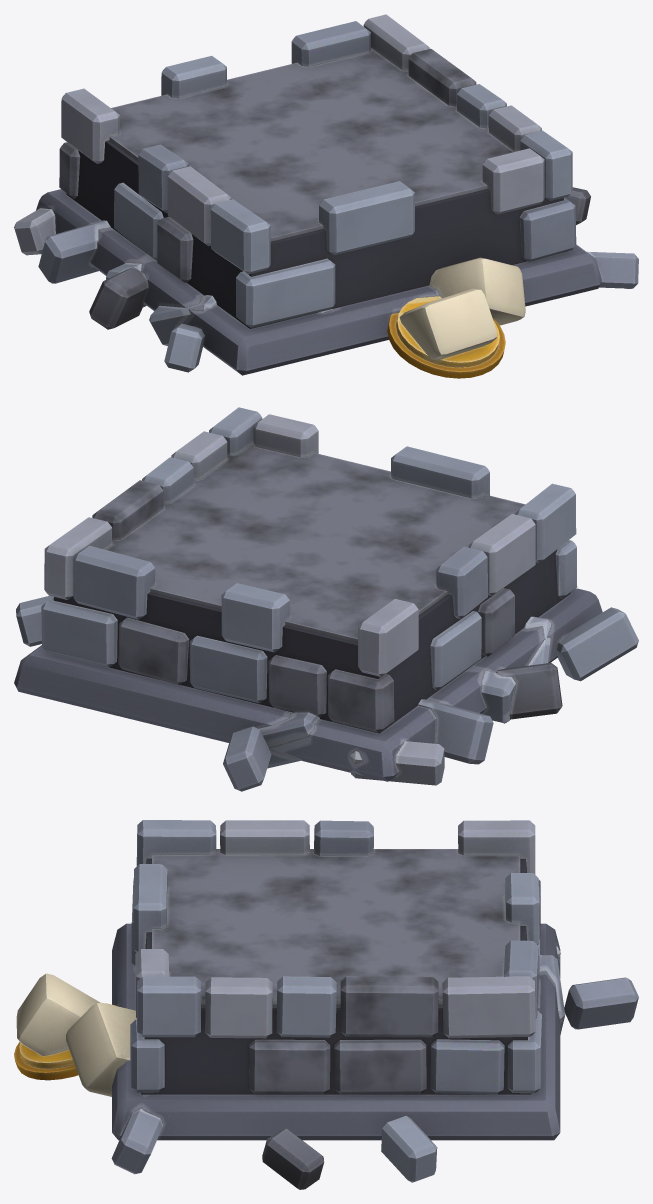
File: battlestation_ruin.glb
3 views of the same model, one above another, from view 1: azimuth 30°, elevation 25°; view 2: azimuth 150°, elevation 25°; view 3: azimuth 270°, elevation 25° (orthographic). The views are drawn at different scales.
Visible parts, largest first — view 1: body; view 2: body; view 3: body.
Part boxes in pixels (left/top/right/bottom): body: left=14, top=14, right=638, bottom=378; body: left=14, top=407, right=638, bottom=791; body: left=14, top=820, right=638, bottom=1189.
Bounding box in the file's own units: 5.44 × 1.66 × 5.63.
Materials: 1 (1 with a texture image).
